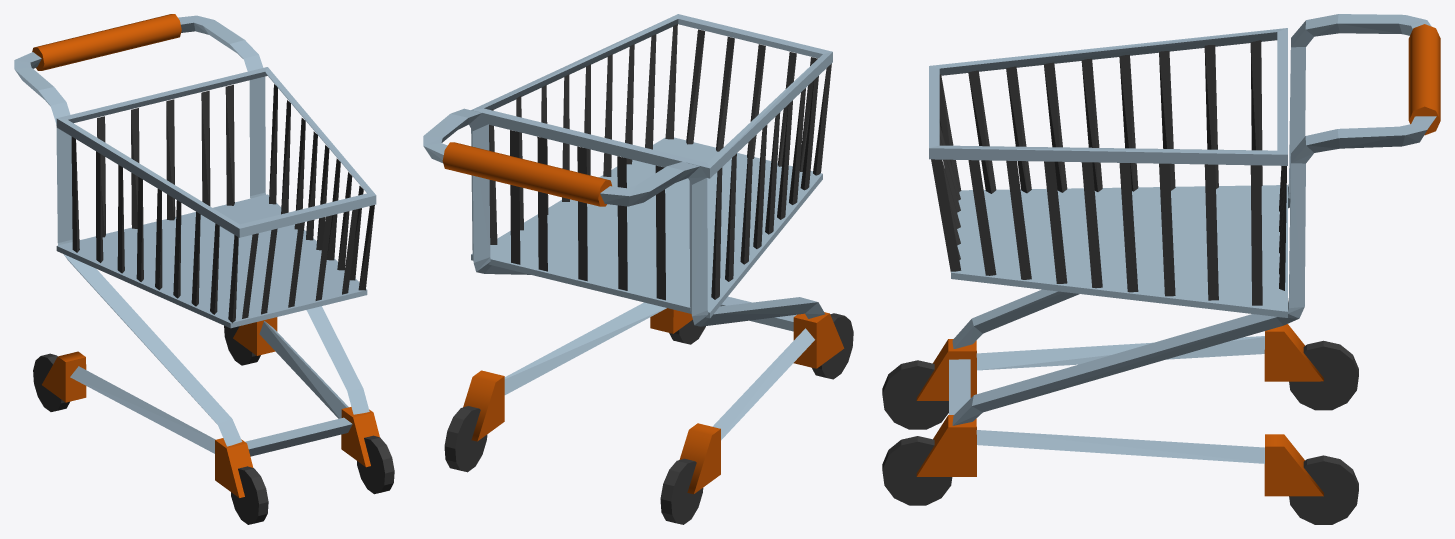
File: cart.dae
3 views of the same model, side by side, from view 1: azimuth 30°, elevation 25°; view 2: azimuth 150°, elevation 25°; view 3: azimuth 270°, elevation 25° (orthographic). The views are drawn at different scales.
Parts seen in each view (by area): view 1: 9.0.242.0_Pts_Material_(1)_Surf, 9.0.242.0_Pts_Material_(3)_Surf, 9.0.242.0_Pts_Material_(2)_Surf, 9.0.242.0_Pts_Material_(4)_Surf; view 2: 9.0.242.0_Pts_Material_(1)_Surf, 9.0.242.0_Pts_Material_(3)_Surf, 9.0.242.0_Pts_Material_(2)_Surf, 9.0.242.0_Pts_Material_(4)_Surf; view 3: 9.0.242.0_Pts_Material_(1)_Surf, 9.0.242.0_Pts_Material_(3)_Surf, 9.0.242.0_Pts_Material_(2)_Surf, 9.0.242.0_Pts_Material_(4)_Surf.
Part boxes in pixels (bbox=[...]): 9.0.242.0_Pts_Material_(1)_Surf: bbox=[14, 15, 376, 456]; 9.0.242.0_Pts_Material_(3)_Surf: bbox=[33, 84, 374, 411]; 9.0.242.0_Pts_Material_(2)_Surf: bbox=[32, 14, 379, 497]; 9.0.242.0_Pts_Material_(4)_Surf: bbox=[231, 435, 394, 524]; 9.0.242.0_Pts_Material_(1)_Surf: bbox=[423, 14, 832, 440]; 9.0.242.0_Pts_Material_(3)_Surf: bbox=[444, 24, 831, 524]; 9.0.242.0_Pts_Material_(2)_Surf: bbox=[442, 142, 844, 494]; 9.0.242.0_Pts_Material_(4)_Surf: bbox=[669, 313, 853, 379]; 9.0.242.0_Pts_Material_(1)_Surf: bbox=[929, 14, 1436, 463]; 9.0.242.0_Pts_Material_(3)_Surf: bbox=[931, 40, 1358, 524]; 9.0.242.0_Pts_Material_(2)_Surf: bbox=[916, 24, 1440, 496]; 9.0.242.0_Pts_Material_(4)_Surf: bbox=[882, 360, 952, 505].
Size of the model in its own units: 7.4 by 10.84 by 13.73.
